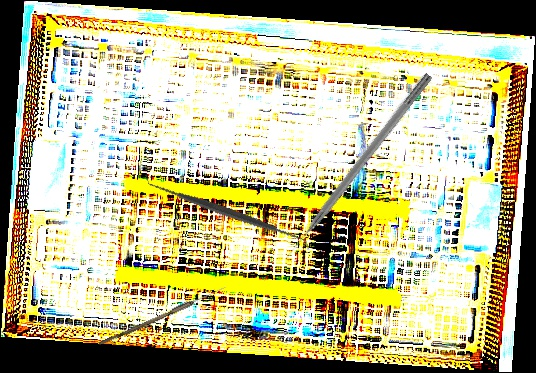Pusher: (279, 70, 434, 263)
Spatula Surgical: (145, 130, 310, 295)
Surgical Spoon: (98, 283, 227, 349)
